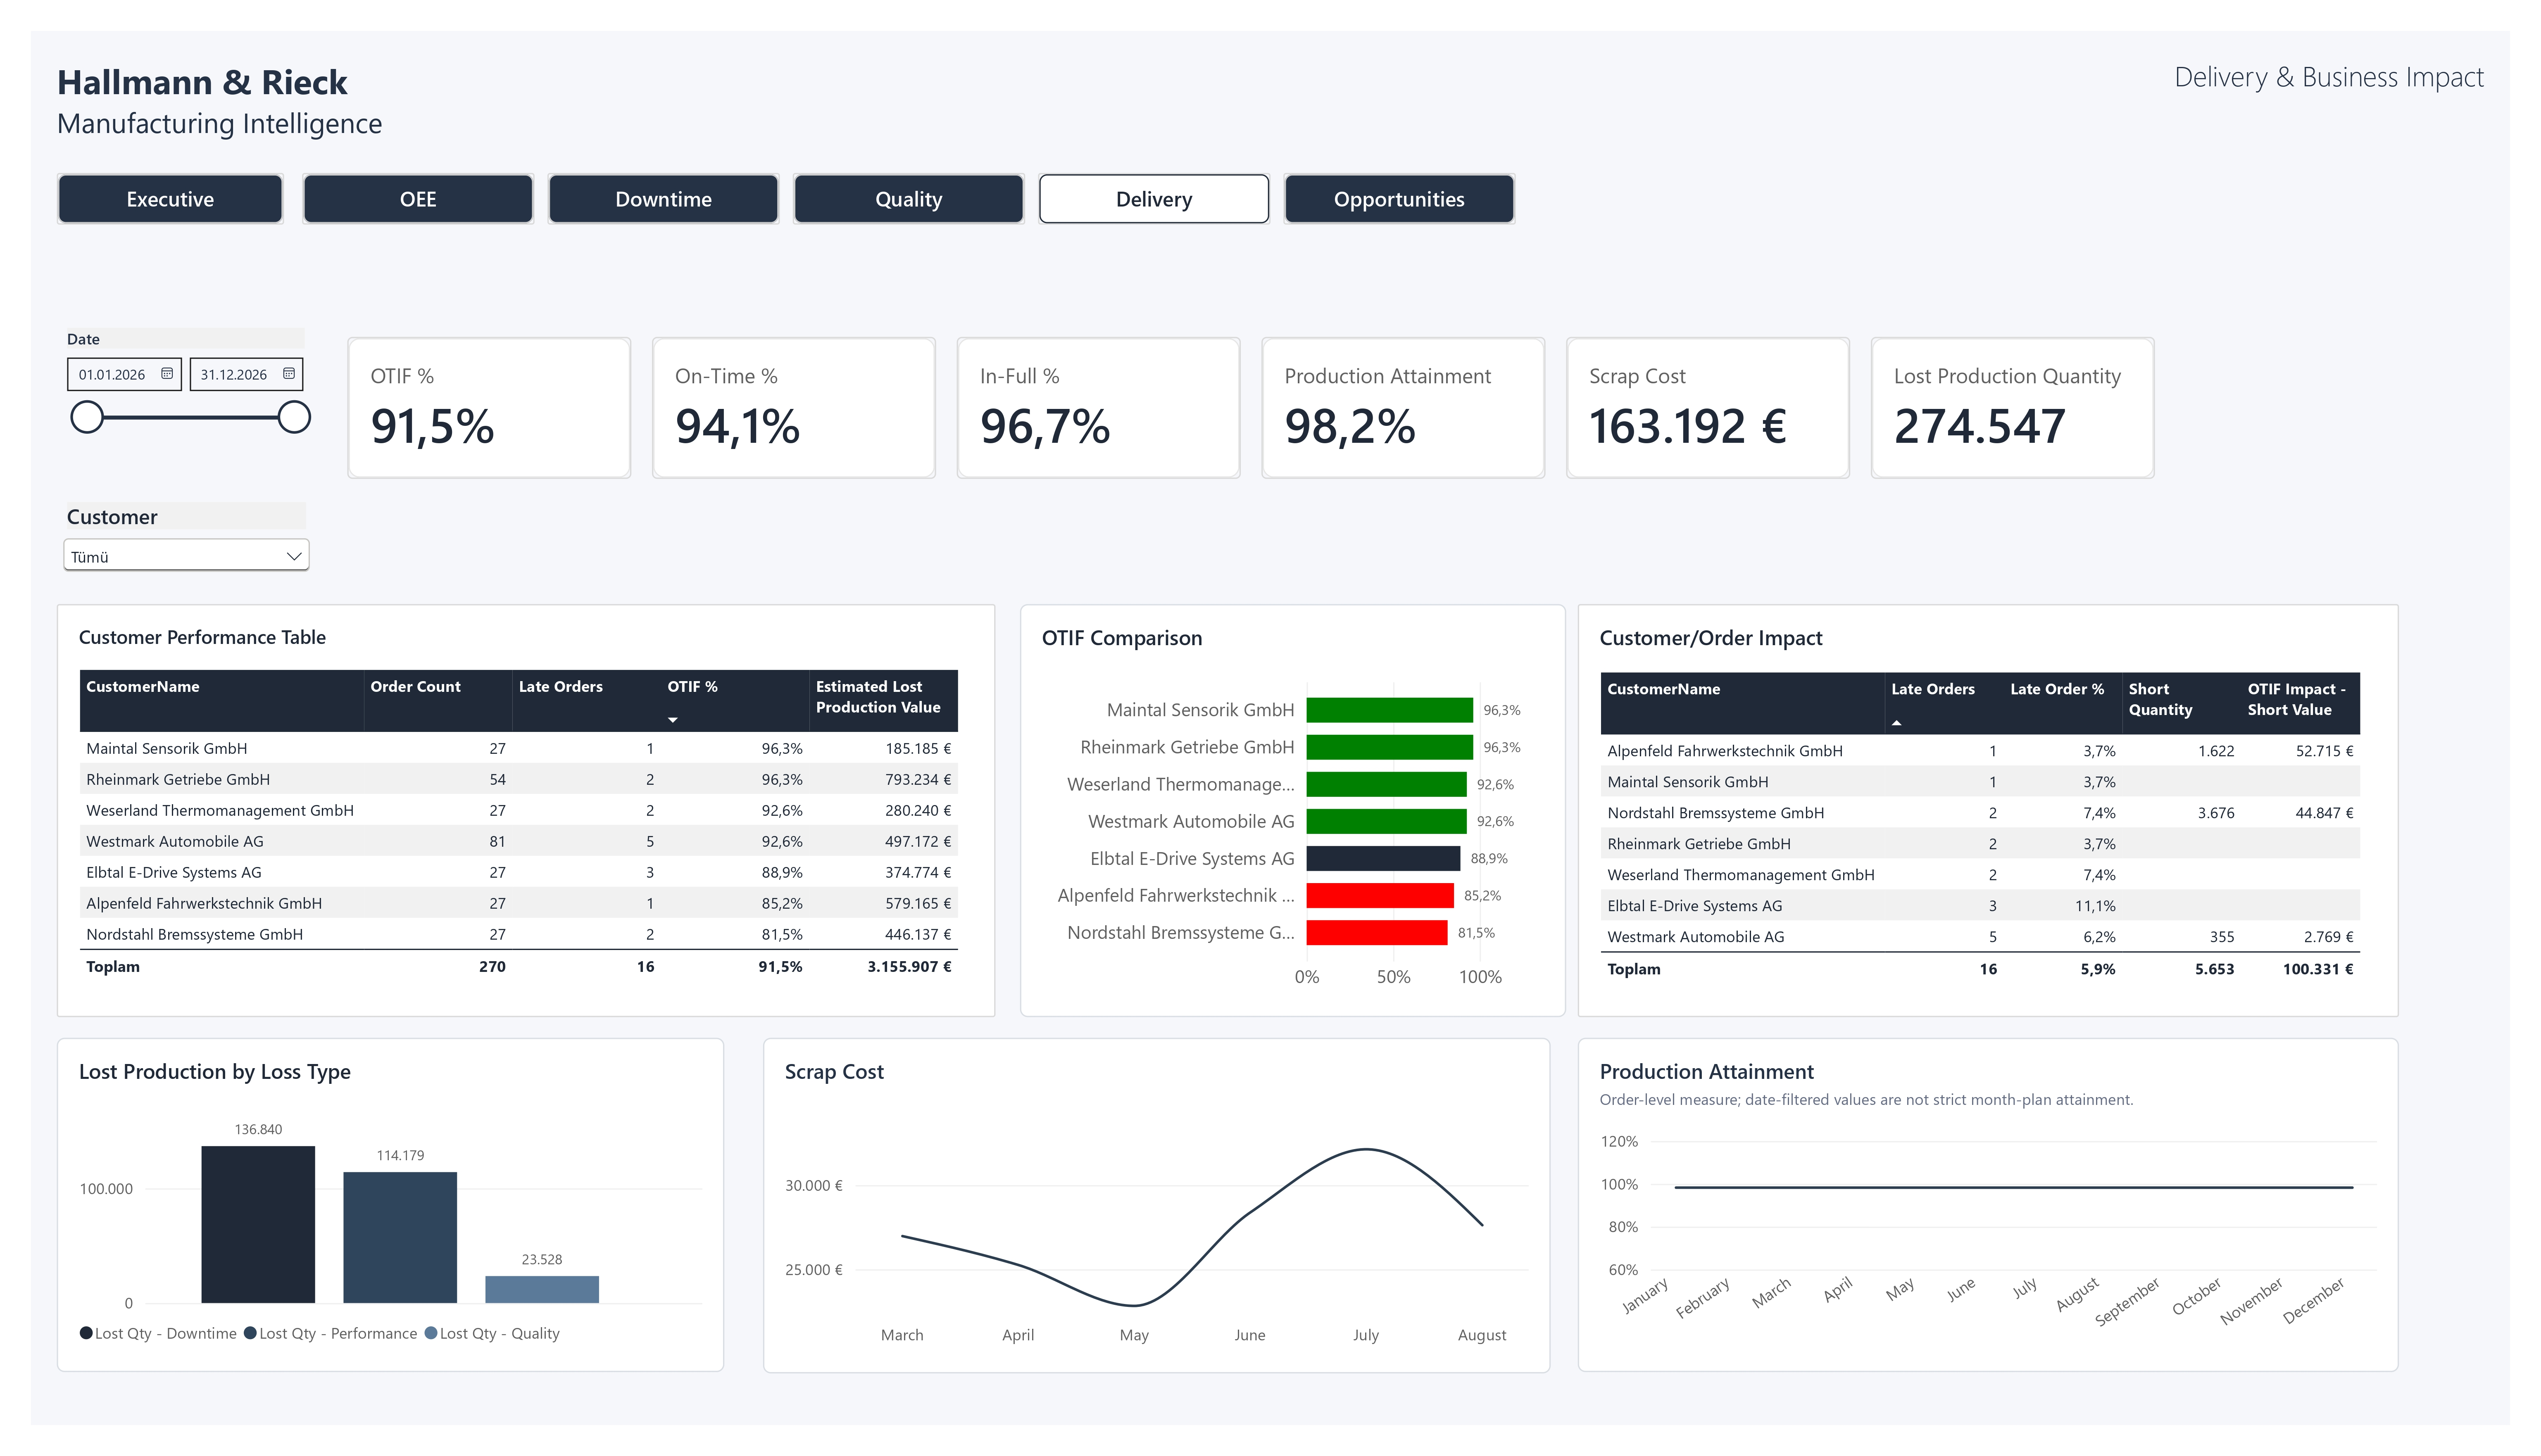

What the dashboard file says about the page in this screenshot:
{"tool":"powerbi","page":{"name":"05 Delivery & Business Impact","canvas":[1920,1080],"ordinal":4},"visuals":[{"type":"textbox","title":"Company Text","box":[20,20,362.5,80],"z":0,"group":"g1"},{"type":"actionButton","title":"Opportunities","box":[970.3,110.5,180,40],"z":0,"group":"g2"},{"type":"cardVisual","fields":{"Data":["_Measures.In-Full %"],"Values":["_Measures.In-Full %"]},"box":[717,236.6,220,110],"z":0},{"type":"textbox","title":"Page Text","box":[1644.9,20,255.1,80.5],"z":1000,"group":"g1"},{"type":"actionButton","title":"Delivery","box":[780,110,180,40],"z":1000,"group":"g2"},{"type":"cardVisual","fields":{"Data":["_Measures.OTIF %"],"Values":["_Measures.OTIF %"]},"box":[245,236.6,220,110],"z":1000},{"type":"actionButton","title":"Quality","box":[590,110,180,40],"z":2000,"group":"g2"},{"type":"lineChart","title":"Scrap Cost","fields":{"Category":["Dim_Date.MonthName"],"Y":["_Measures.Scrap Cost"]},"box":[567.4,780.1,609.9,260],"z":2000},{"type":"actionButton","title":"Downtime","box":[400,110,180,40],"z":3000,"group":"g2"},{"type":"tableEx","title":"Customer Performance Table","fields":{"Values":["Dim_Customer.CustomerName","_Measures.Order Count","_Measures.Late Orders","_Measures.OTIF %","_Measures.Estimated Lost Production Value"]},"box":[20,443.8,727.4,320.2],"z":3000},{"type":"actionButton","title":"OEE","box":[210,110,180,40],"z":4000,"group":"g2"},{"type":"cardVisual","fields":{"Data":["_Measures.Scrap Cost"],"Values":["_Measures.Scrap Cost"]},"box":[1189,236.6,220,110],"z":4000},{"type":"actionButton","title":"Executive","box":[20,110,176,40],"z":5000,"group":"g2"},{"type":"cardVisual","fields":{"Data":["_Measures.On-Time %"],"Values":["_Measures.On-Time %"]},"box":[481,236.6,220,110],"z":5000},{"type":"cardVisual","fields":{"Data":["_Measures.Lost Production Quantity"],"Values":["_Measures.Lost Production Quantity"]},"box":[1425,236.6,220,110],"z":6000},{"type":"cardVisual","fields":{"Data":["_Measures.Production Attainment"],"Values":["_Measures.Production Attainment"]},"box":[953,236.6,220,110],"z":7000},{"type":"lineChart","title":"Production Attainment","fields":{"Category":["Dim_Date.MonthName"],"Y":["_Measures.Production Attainment"]},"box":[1197.5,780.1,636.2,259.4],"z":8000},{"type":"clusteredColumnChart","title":"Lost Production by Loss Type","fields":{"Y":["_Measures.Lost Qty - Downtime","_Measures.Lost Qty - Performance","_Measures.Lost Qty - Quality"]},"box":[20,780.1,516.7,259.4],"z":9000},{"type":"tableEx","title":"Customer/Order Impact","fields":{"Values":["Dim_Customer.CustomerName","_Measures.Late Orders","_Measures.Late Order %","_Measures.Short Quantity","_Measures.OTIF Impact - Short Value"]},"box":[1197.5,443.8,636.2,320.2],"z":10000},{"type":"clusteredBarChart","title":"OTIF Comparison","fields":{"Category":["Dim_Customer.CustomerName"],"Y":["_Measures.OTIF %"]},"box":[765.9,443.8,423.5,320.2],"z":11000},{"type":"slicer","fields":{"Values":["Dim_Customer.CustomerName"]},"box":[20,364.7,200.6,79],"z":12000},{"type":"group","id":"g1","title":"Header","box":[20,20,1880,80.5],"z":13000},{"type":"group","id":"g2","title":"Navigation Buttons","box":[20,110,1130.3,40.5],"z":14000},{"type":"slicer","title":"Date Slicer","fields":{"Values":["Dim_Date.Date"]},"box":[20,230,200,110],"z":15000}]}

Visuals, with their boxes on the page's 1920x1080 design canvas (x1, y1, x2, y2). These are canvas units, not pixel positions in the 2541x1456 screenshot, which may show the page scaled, cropped or inside an application window:
"Company Text" textbox: <bbox>20, 20, 382, 100</bbox>
"Opportunities" actionButton: <bbox>970, 110, 1150, 150</bbox>
cardVisual - _Measures.In-Full % x _Measures.In-Full %: <bbox>717, 237, 937, 347</bbox>
"Page Text" textbox: <bbox>1645, 20, 1900, 100</bbox>
"Delivery" actionButton: <bbox>780, 110, 960, 150</bbox>
cardVisual - _Measures.OTIF % x _Measures.OTIF %: <bbox>245, 237, 465, 347</bbox>
"Quality" actionButton: <bbox>590, 110, 770, 150</bbox>
"Scrap Cost" lineChart: <bbox>567, 780, 1177, 1040</bbox>
"Downtime" actionButton: <bbox>400, 110, 580, 150</bbox>
"Customer Performance Table" tableEx: <bbox>20, 444, 747, 764</bbox>
"OEE" actionButton: <bbox>210, 110, 390, 150</bbox>
cardVisual - _Measures.Scrap Cost x _Measures.Scrap Cost: <bbox>1189, 237, 1409, 347</bbox>
"Executive" actionButton: <bbox>20, 110, 196, 150</bbox>
cardVisual - _Measures.On-Time % x _Measures.On-Time %: <bbox>481, 237, 701, 347</bbox>
cardVisual - _Measures.Lost Production Quantity x _Measures.Lost Production Quantity: <bbox>1425, 237, 1645, 347</bbox>
cardVisual - _Measures.Production Attainment x _Measures.Production Attainment: <bbox>953, 237, 1173, 347</bbox>
"Production Attainment" lineChart: <bbox>1198, 780, 1834, 1040</bbox>
"Lost Production by Loss Type" clusteredColumnChart: <bbox>20, 780, 537, 1040</bbox>
"Customer/Order Impact" tableEx: <bbox>1198, 444, 1834, 764</bbox>
"OTIF Comparison" clusteredBarChart: <bbox>766, 444, 1189, 764</bbox>
slicer - Dim_Customer.CustomerName: <bbox>20, 365, 221, 444</bbox>
"Header" group: <bbox>20, 20, 1900, 100</bbox>
"Navigation Buttons" group: <bbox>20, 110, 1150, 150</bbox>
"Date Slicer" slicer: <bbox>20, 230, 220, 340</bbox>
